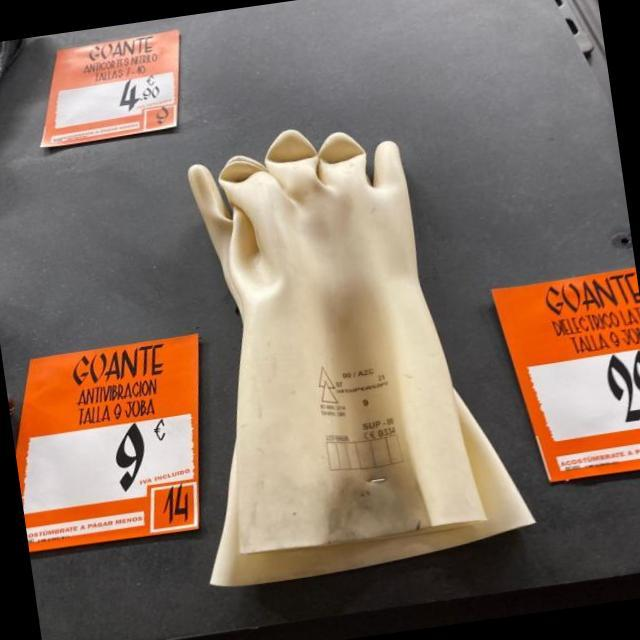glove: (187, 125, 535, 567)
